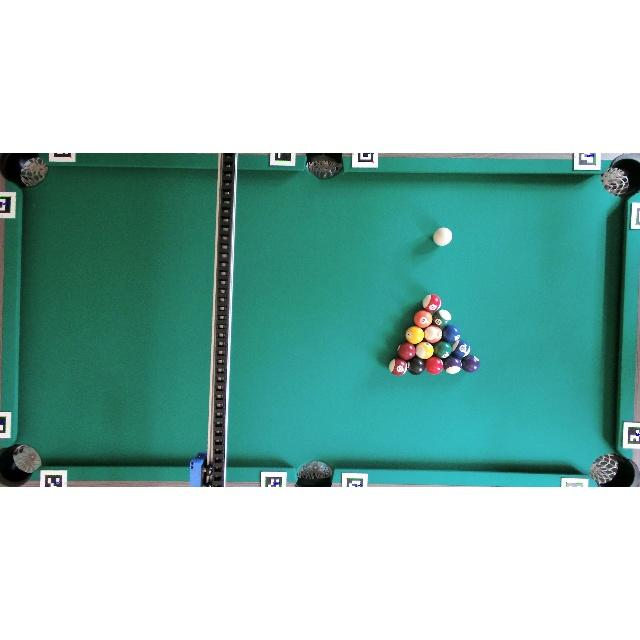cue ball: (432, 226, 453, 246)
other: (451, 340, 471, 359), (433, 309, 452, 328), (422, 294, 442, 312), (388, 358, 408, 376), (442, 325, 461, 343), (406, 326, 424, 345), (424, 325, 443, 343), (434, 341, 453, 359), (425, 356, 444, 374), (398, 342, 417, 360), (442, 357, 462, 374), (407, 357, 425, 375), (414, 310, 432, 328), (462, 355, 480, 373), (416, 342, 434, 359)
